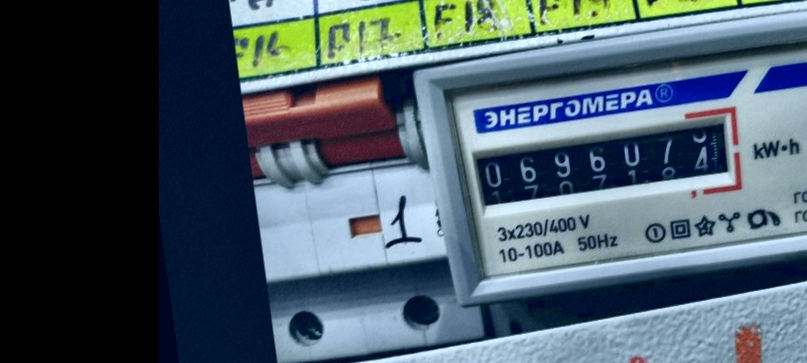0: (619, 136, 642, 169), (480, 158, 503, 190)
4: (688, 143, 710, 174)
6: (513, 152, 539, 185), (585, 143, 607, 173)
7: (654, 133, 675, 165)
9: (550, 149, 572, 180)
screen: (452, 99, 747, 226)
